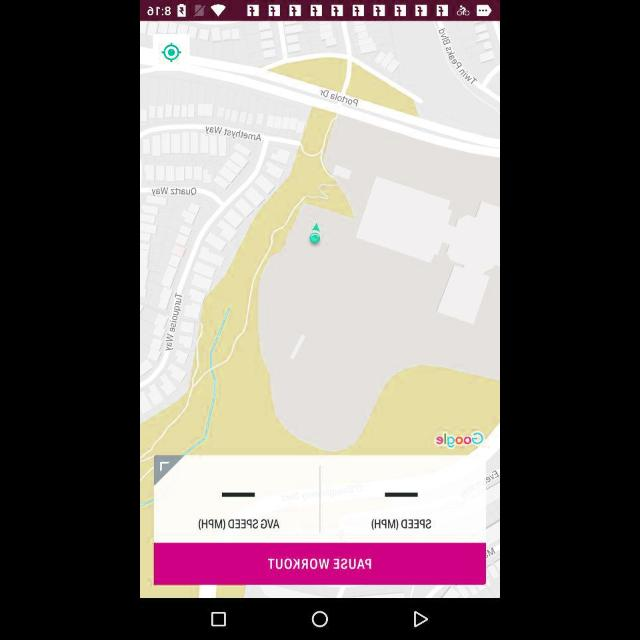icon: (312, 610, 330, 628), (414, 610, 430, 628), (163, 42, 179, 59), (211, 612, 227, 626)
map: (140, 21, 500, 597)
panel: (141, 598, 499, 640)
text: (268, 559, 372, 573), (197, 518, 279, 532), (371, 516, 433, 532)
textbutton: (153, 544, 485, 584)
uppertaskbar: (141, 1, 499, 21)
